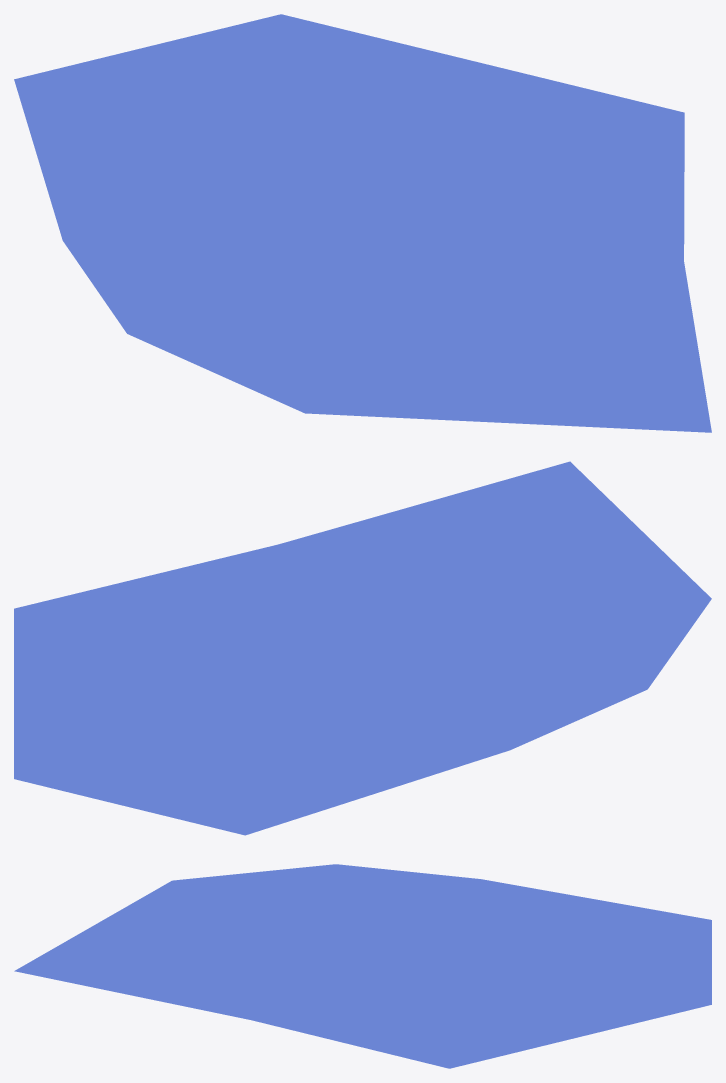
File: suelo_hielo_p1.fbx
3 views of the same model, one above another, from view 1: azimuth 30°, elevation 25°; view 2: azimuth 150°, elevation 25°; view 3: azimuth 270°, elevation 25° (orthographic). The views are drawn at different scales.
Parts seen in each view (by area): view 1: Cylinder005; view 2: Cylinder005; view 3: Cylinder005.
Part boxes in pixels (box(x1,y1,x2,y2)): Cylinder005: box(14, 14, 711, 432); Cylinder005: box(14, 461, 711, 835); Cylinder005: box(14, 864, 711, 1068).
Bounding box in the file's own units: 34.75 × 9.54e-07 × 50.08.
